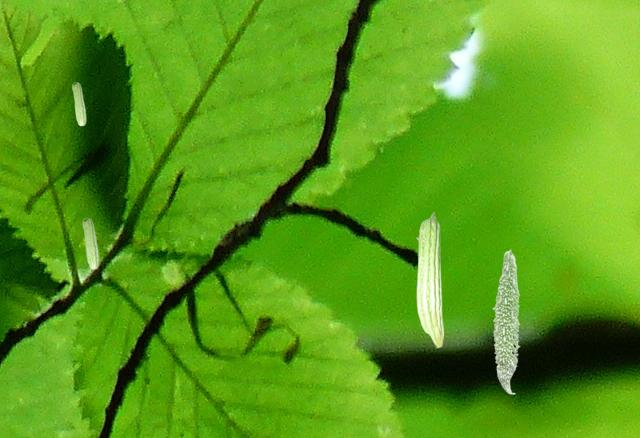ampalaya: (492, 248, 520, 394), (416, 212, 444, 348), (82, 217, 99, 269), (71, 81, 87, 126)
